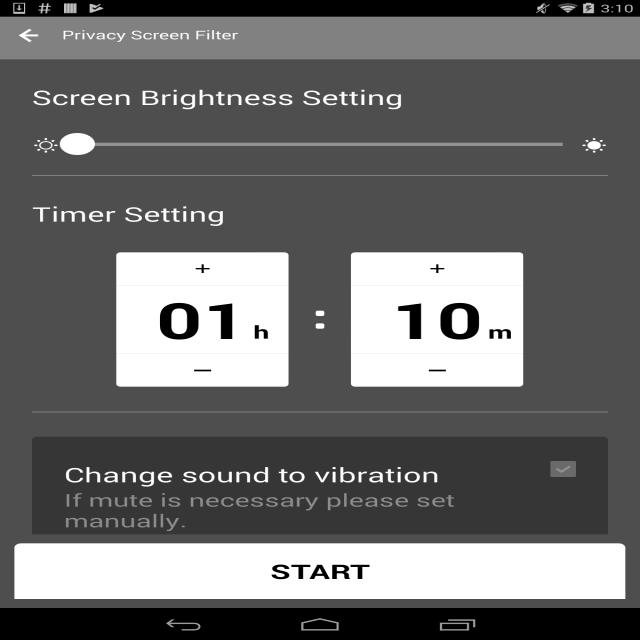Button: (14, 543, 626, 599)
CheckBox: (550, 461, 576, 477)
ImageButton: (115, 252, 290, 285), (115, 354, 290, 387), (350, 252, 524, 285), (350, 354, 524, 387), (32, 136, 60, 156), (580, 136, 608, 156)
ImageView: (289, 257, 350, 382), (0, 17, 58, 54)
TextView: (0, 176, 640, 252), (0, 60, 640, 126), (64, 488, 576, 557), (64, 461, 550, 488), (156, 286, 248, 353), (391, 286, 483, 353), (62, 26, 239, 43), (488, 320, 513, 344), (253, 320, 270, 344)
